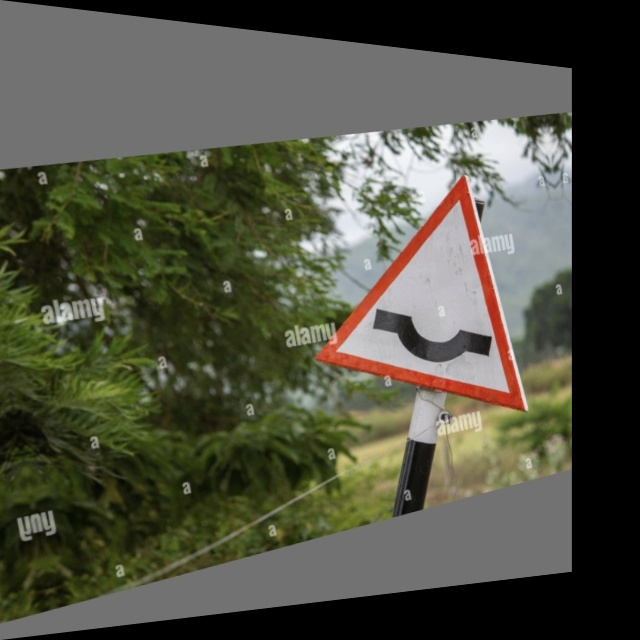Dangerous_Dip: (281, 152, 532, 458)
